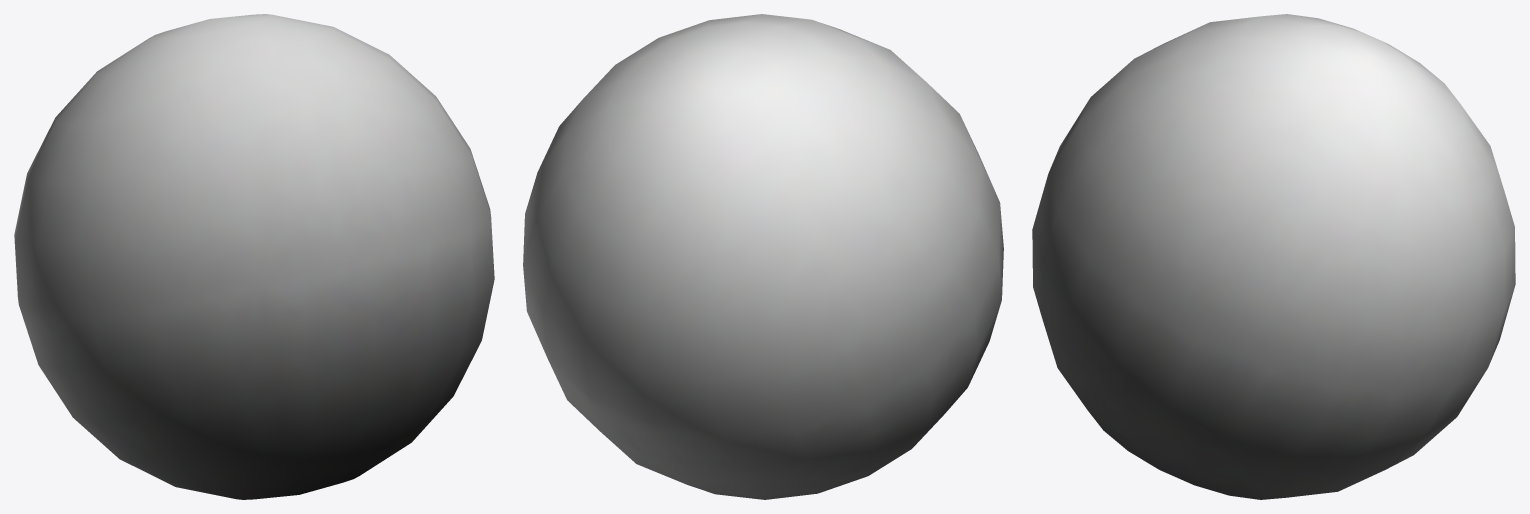
File: trackpad_touch_right.obj
3 renders of one model, left to right at view 1: azimuth 30°, elevation 25°; view 2: azimuth 150°, elevation 25°; view 3: azimuth 270°, elevation 25°, orthographic.
Visible parts, largest first — view 1: touchpad_touch; view 2: touchpad_touch; view 3: touchpad_touch.
Boxes of the visible parts, x1,y1,x2,y2 form: touchpad_touch: [14, 14, 494, 499]; touchpad_touch: [523, 14, 1003, 499]; touchpad_touch: [1032, 14, 1515, 499].
Size of the model in its own units: 0.00431 by 0.00428 by 0.00428.
Materials: 1 (1 with a texture image).
